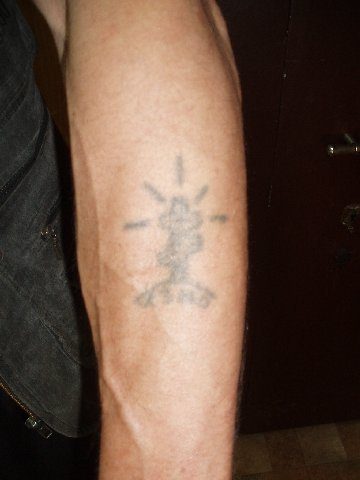tatu9_krest: (152, 194, 215, 280)
